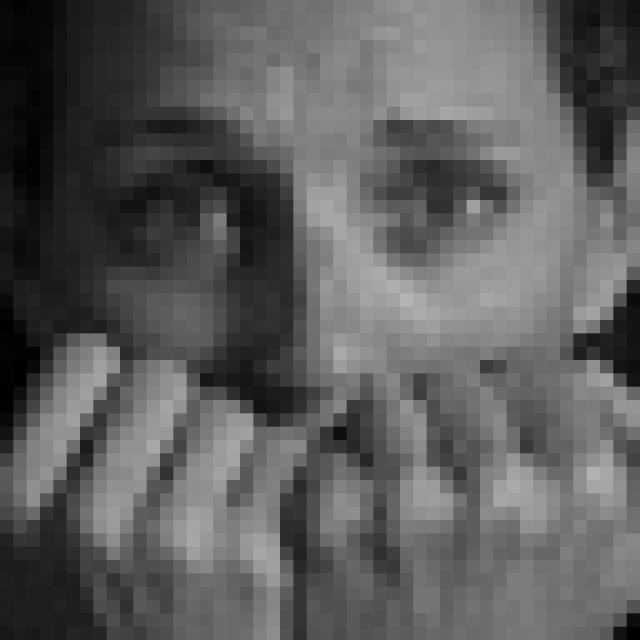fear: (89, 96, 541, 564)
